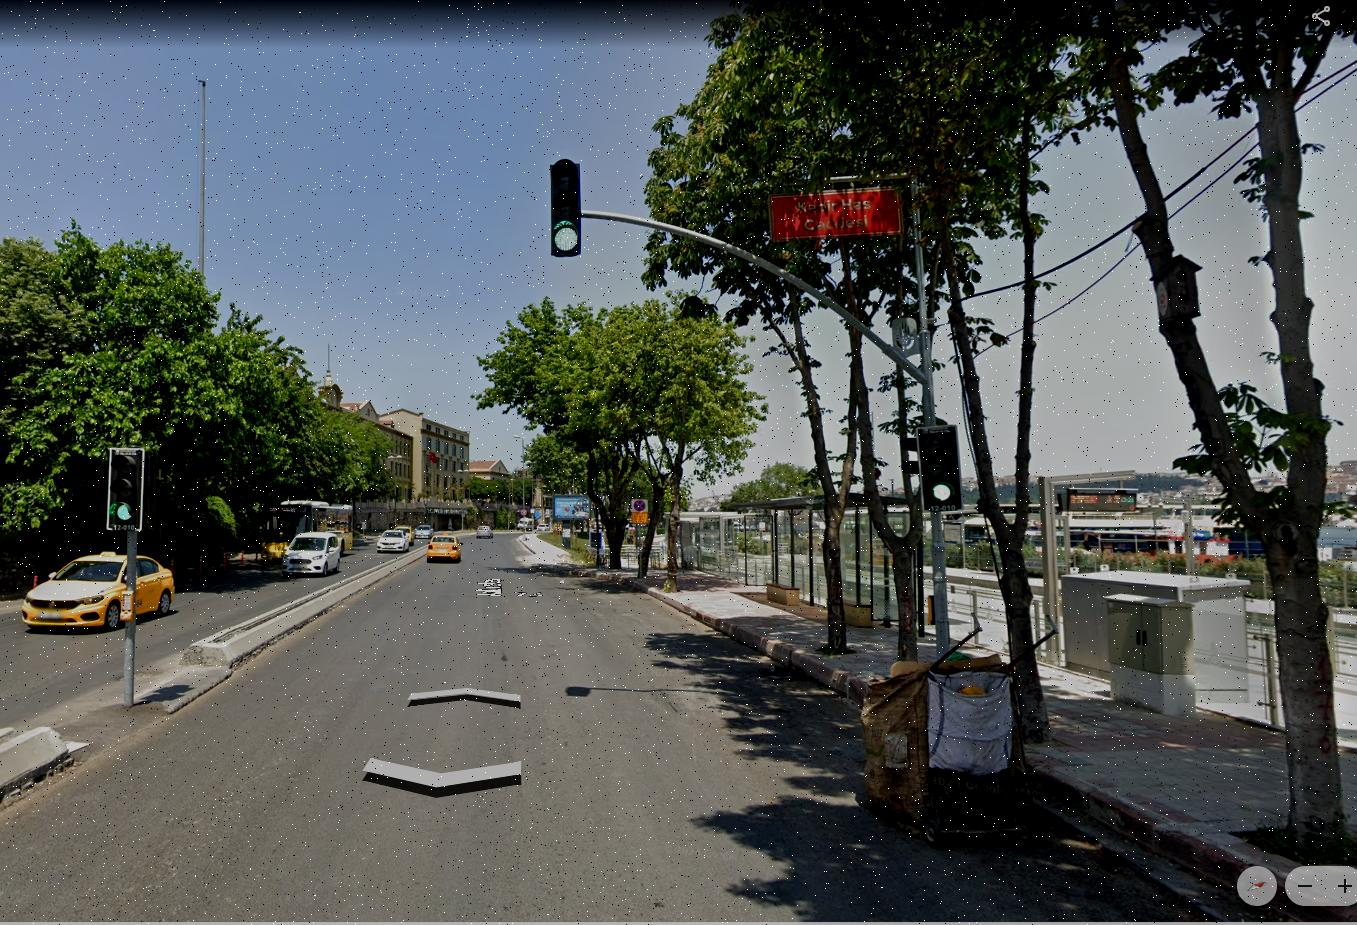greenlight: (920, 419, 957, 510), (548, 160, 583, 254), (110, 448, 144, 527)
